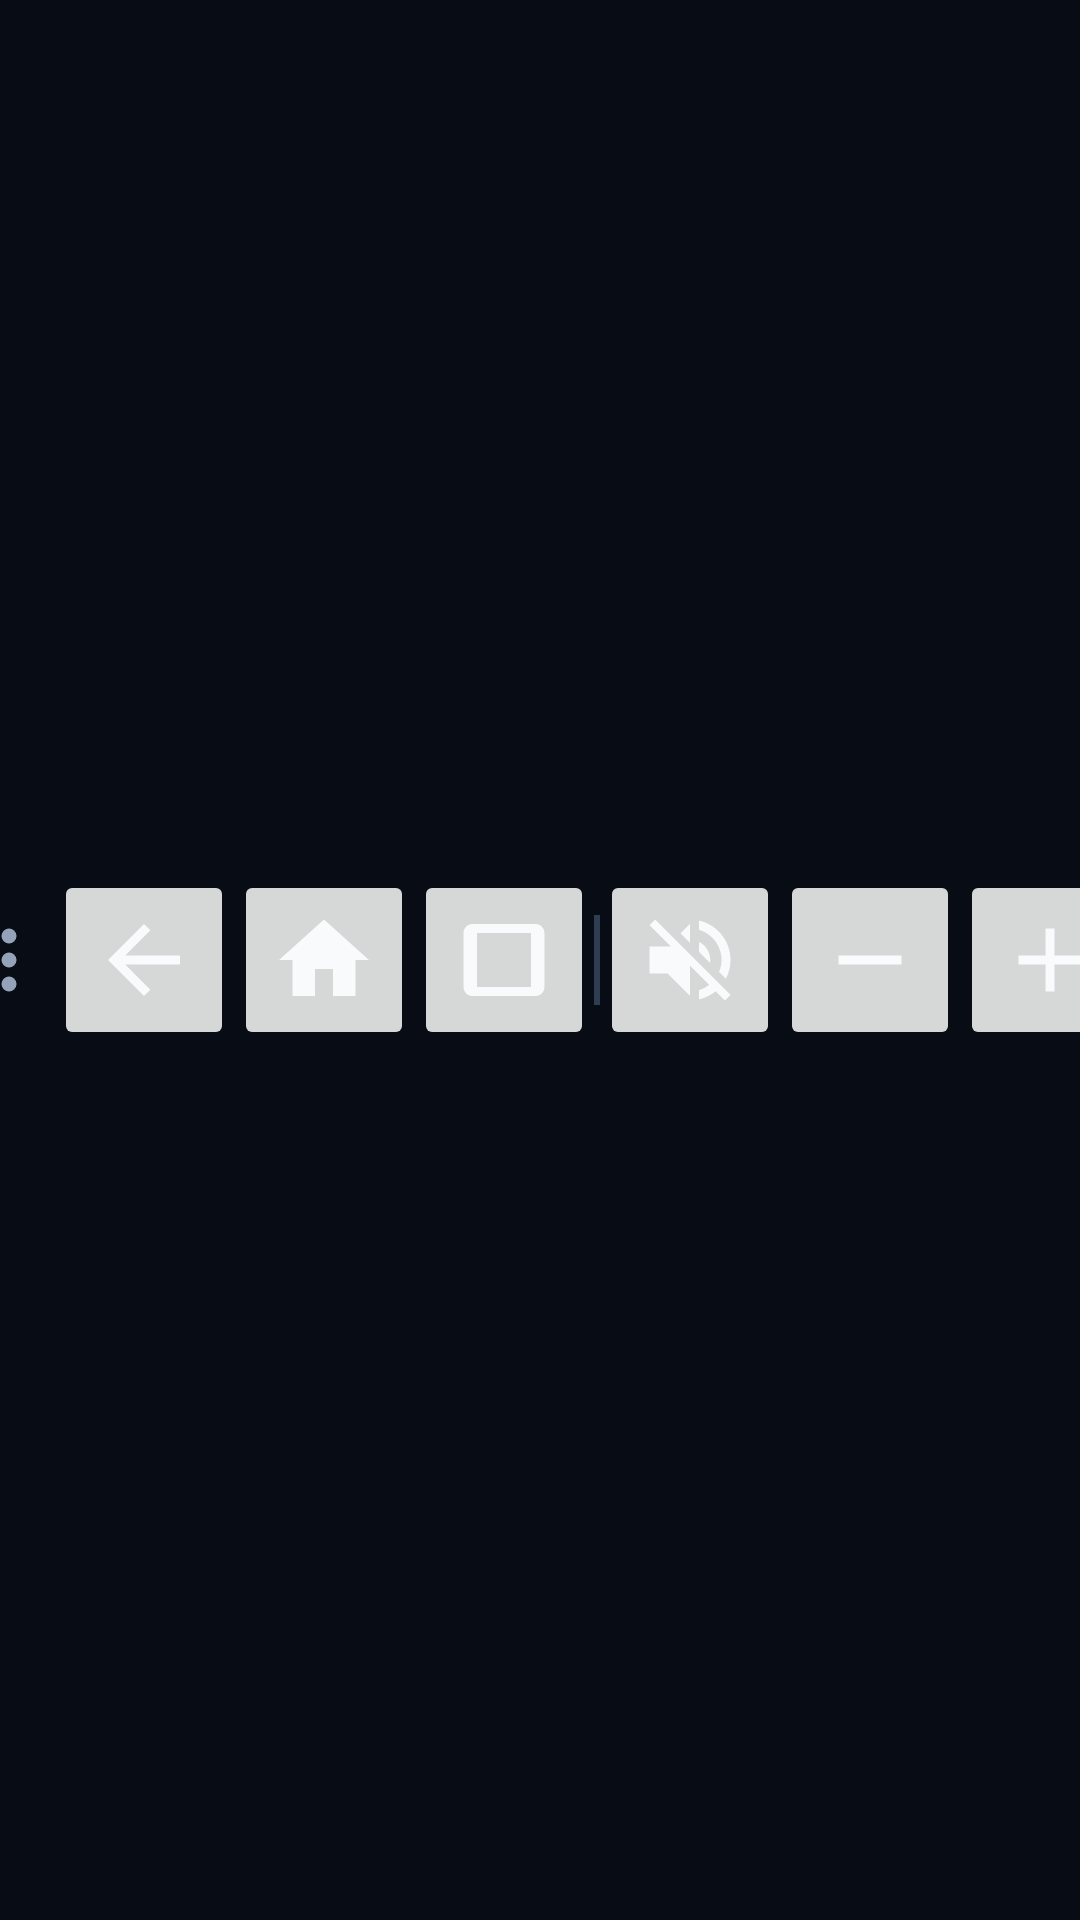

Named icons in this screenshot (1080px x 1920px) and their centers, [x,y]:
Accueil: [324,960]
Applications Récentes: [504,960]
Retour: [144,960]
Sourdine: [690,960]
Volume Moins: [870,960]
